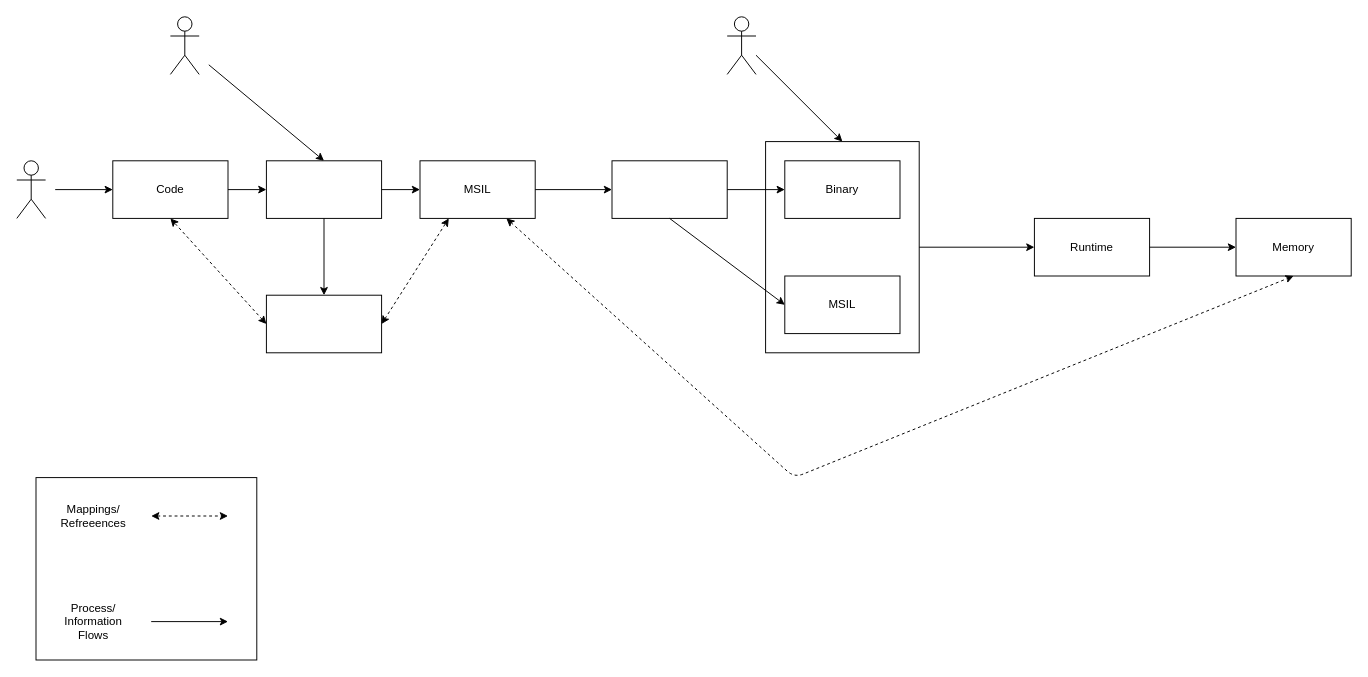
Some shapes in this 1368 by 677 pixel diagram are drawn without their labels. The centre of each missing label's shape, as x and y in pixels:
"Compiler" goes at (x=323, y=189).
"Linker" goes at (x=669, y=189).
"PDB (binary metadata)" goes at (x=323, y=323).
